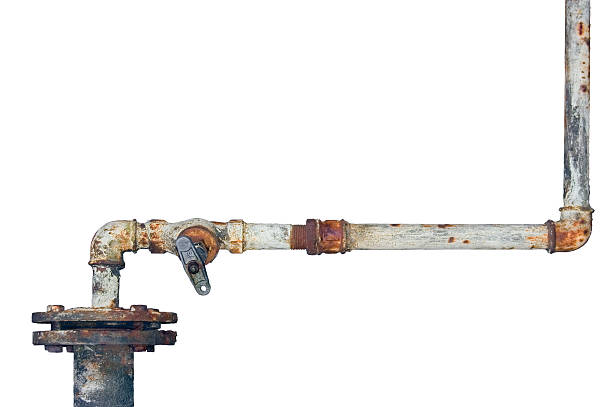rust: (22, 305, 200, 356), (135, 213, 255, 273), (532, 196, 605, 259), (280, 219, 363, 262), (560, 19, 601, 99)
